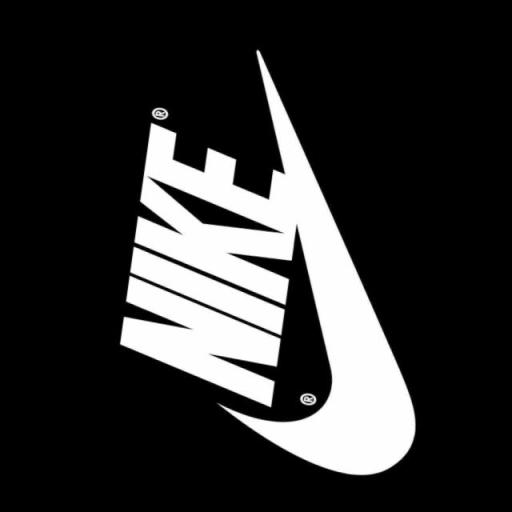Nike: (245, 124, 460, 482), (113, 120, 308, 406)
